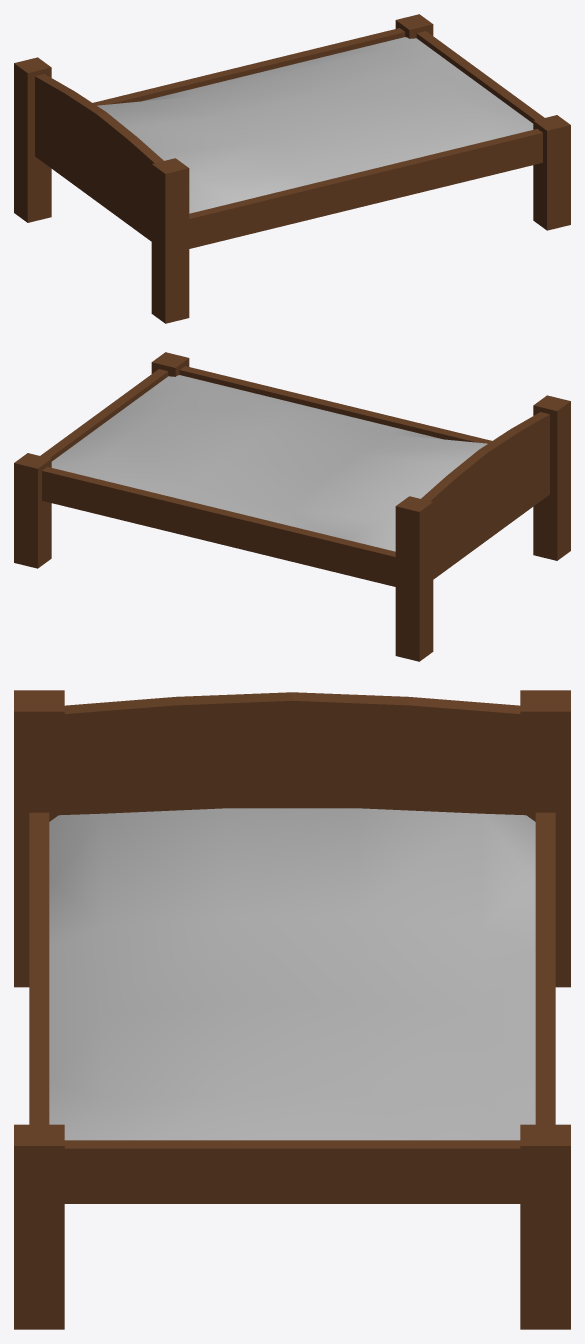
File: bed.dae
3 views of the same model, one above another, from view 1: azimuth 30°, elevation 25°; view 2: azimuth 150°, elevation 25°; view 3: azimuth 270°, elevation 25° (orthographic). The views are drawn at different scales.
Visible parts, largest first — view 1: Cube; view 2: Cube; view 3: Cube.
Boxes of the visible parts, left/top/right/bottom form: Cube: left=14, top=14, right=570, bottom=323; Cube: left=14, top=352, right=570, bottom=661; Cube: left=14, top=690, right=570, bottom=1329.
Bounding box in the file's own units: 8.5 × 5.5 × 3.05.
